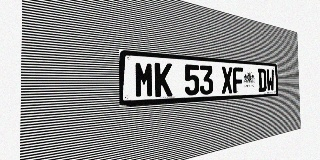3: (200, 65, 213, 95)
5: (185, 64, 200, 96)
D: (258, 68, 267, 92)
F: (233, 67, 243, 93)
K: (155, 62, 172, 97)
M: (134, 61, 154, 98)
W: (266, 69, 274, 91)
X: (221, 66, 233, 94)
